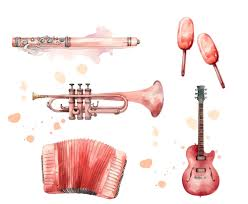Saxophone: (17, 76, 179, 132)
